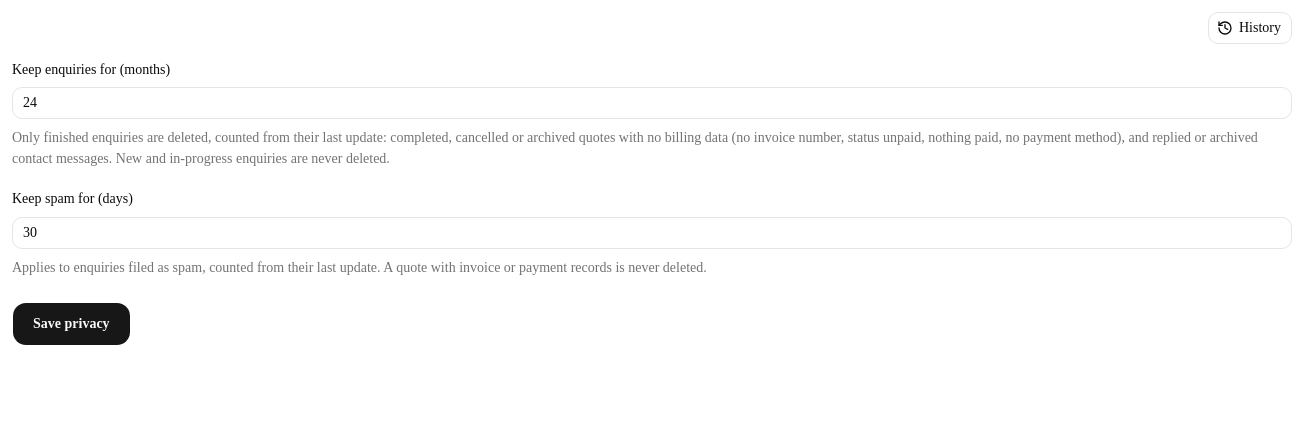
GlobalForm › keeps the conflict message after the form reloads with the other version
Expected: the number field labelled "Keep enquiries for (months)" holds "24", [12, 87, 1292, 119]
Click the button "Save privacy": [71, 324] box [12, 302, 131, 346]
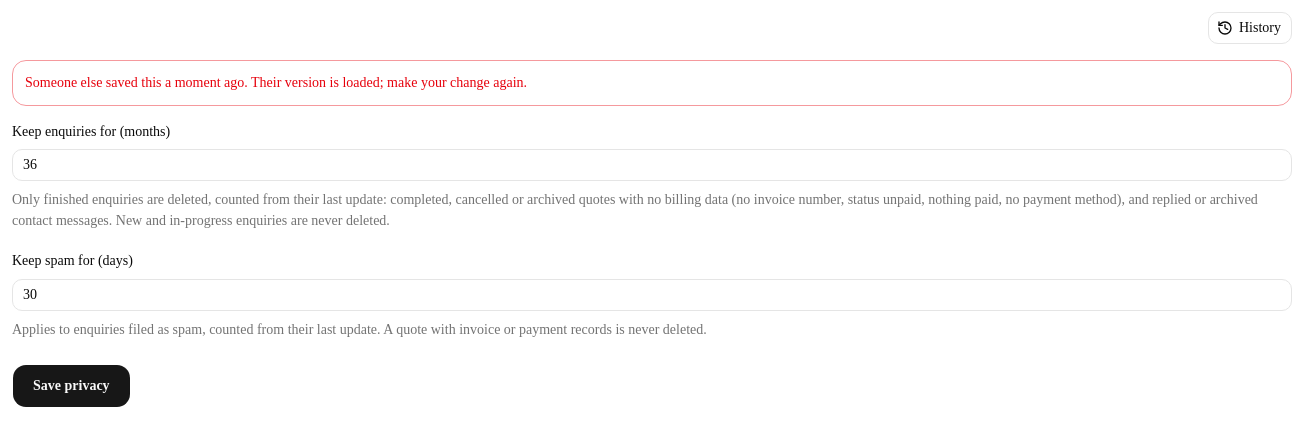
Now the number field labelled "Keep enquiries for (months)" holds "36", box [12, 149, 1292, 181]
Now the message shows "Someone else saved this a moment ago. Their version is loaded; make your change again.", box [25, 75, 527, 90]
